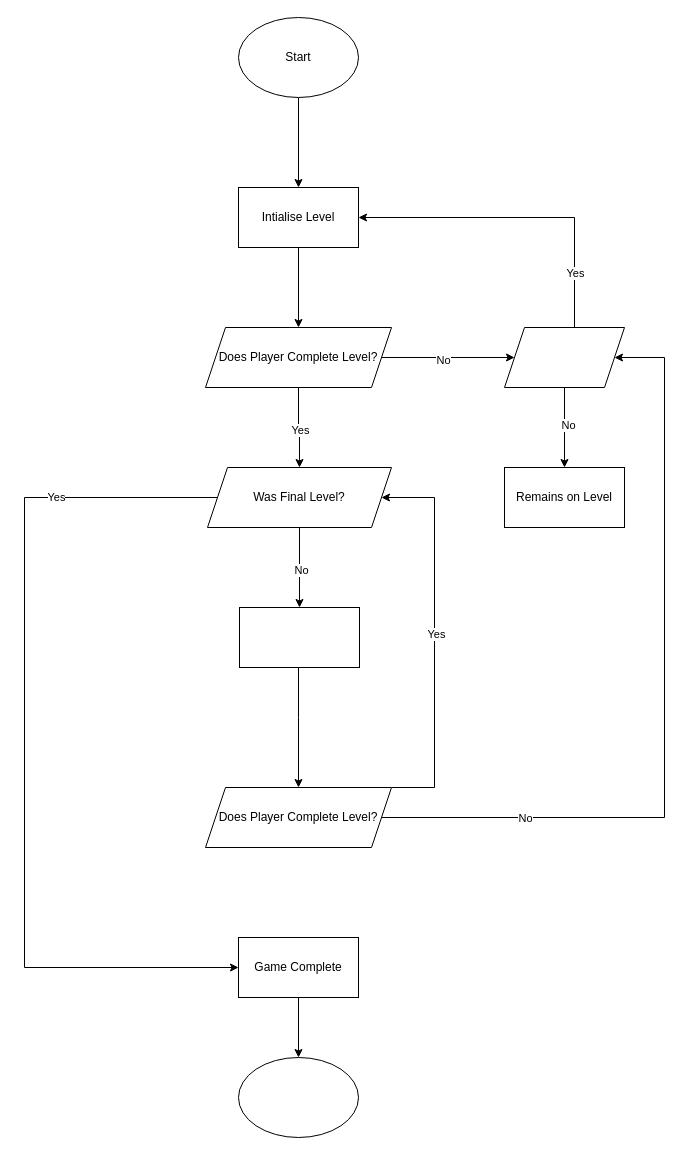
This 690x1155 diagram has some shape labels left out. The box of each missing label's shape, as (x1, y1, x2, y2) in pixels:
Does Player Fail Level?: (504, 326, 624, 388)
End: (238, 1056, 358, 1138)
Player Continues to Next Level: (238, 606, 360, 668)
